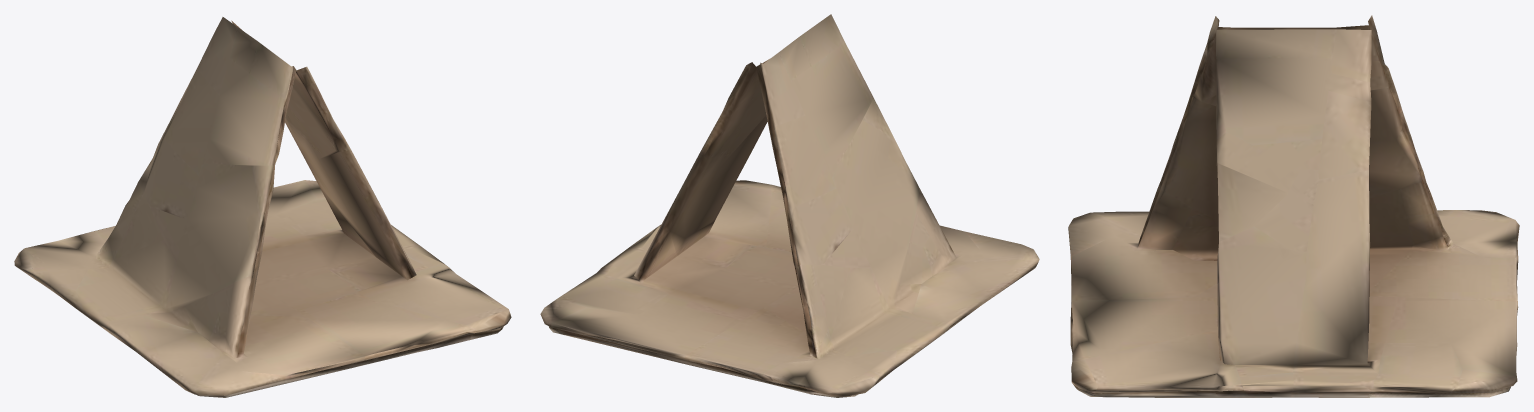
The model's file is cutout_stand_base.glb.
3 renders of one model, left to right at view 1: azimuth 30°, elevation 25°; view 2: azimuth 150°, elevation 25°; view 3: azimuth 270°, elevation 25°, orthographic. The views are drawn at different scales.
Parts seen in each view (by area): view 1: tripo_node_8ae400c4-f981-46bf-a6db-f58ffa372b5a; view 2: tripo_node_8ae400c4-f981-46bf-a6db-f58ffa372b5a; view 3: tripo_node_8ae400c4-f981-46bf-a6db-f58ffa372b5a.
Boxes of the visible parts, x1,y1,x2,y2 form: tripo_node_8ae400c4-f981-46bf-a6db-f58ffa372b5a: (14,17,511,397); tripo_node_8ae400c4-f981-46bf-a6db-f58ffa372b5a: (540,14,1039,397); tripo_node_8ae400c4-f981-46bf-a6db-f58ffa372b5a: (1068,15,1519,397).
Bounding box in the file's own units: 0.4872 × 0.3739 × 0.5171.
Materials: 1 (1 with a texture image).
